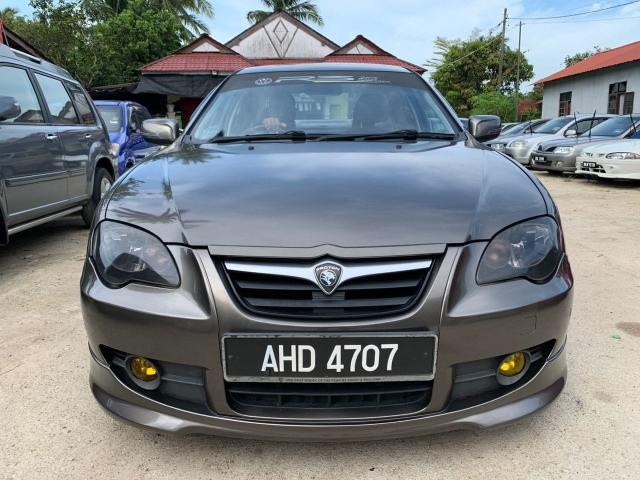License_Plate: (232, 339, 431, 379)
car: (79, 53, 580, 440)
